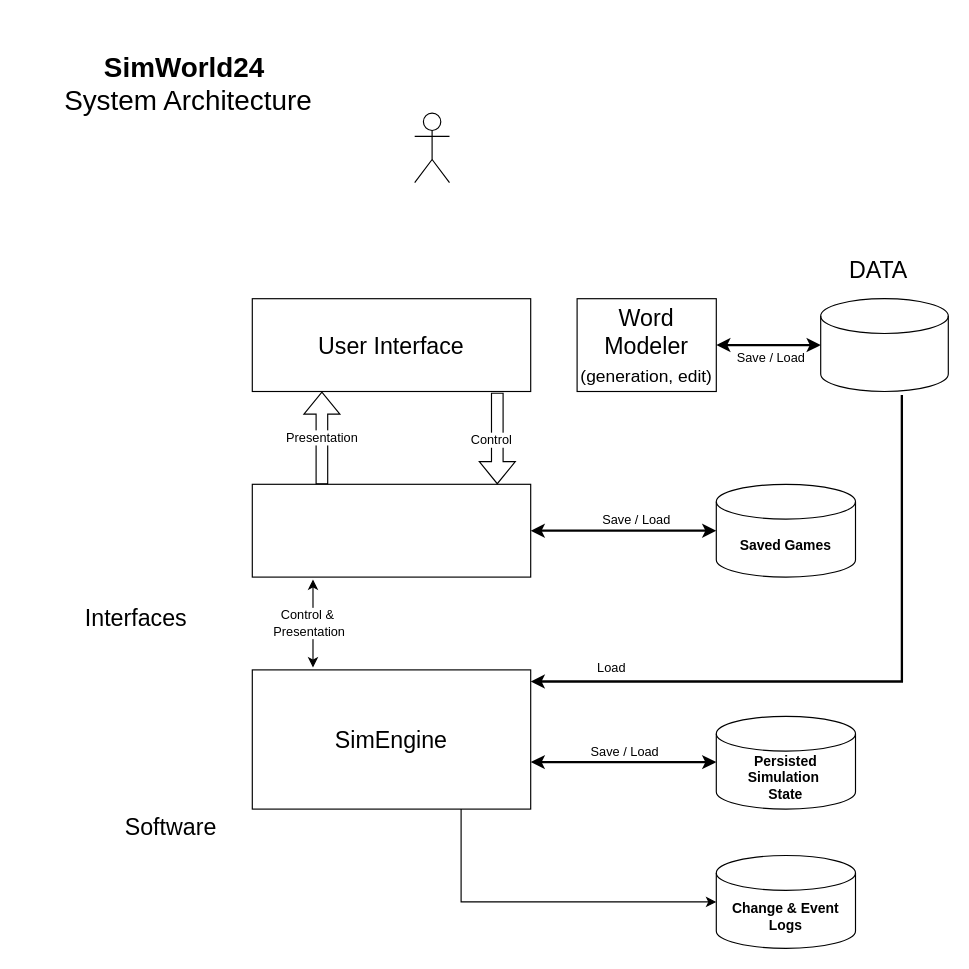
This 969x969 diagram has some shape labels left out. Each missing label, with the box of its shape:
Game App: (251, 483, 531, 577)
Player: (414, 112, 449, 183)
World Model Configuration: (820, 298, 948, 392)
